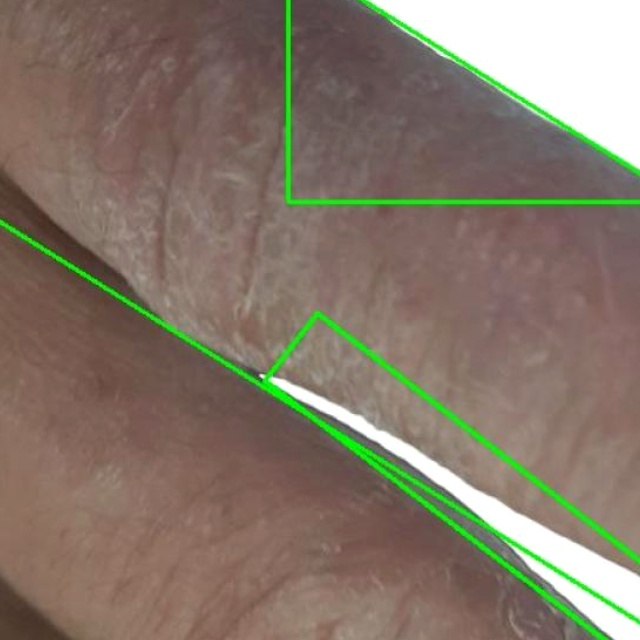Contact Dermatitis: (0, 0, 639, 618), (266, 311, 639, 639), (288, 0, 639, 202)
